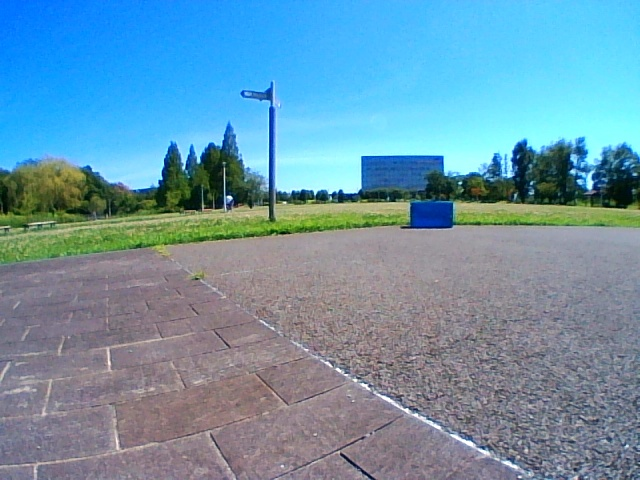blue_box: (411, 201, 454, 228)
